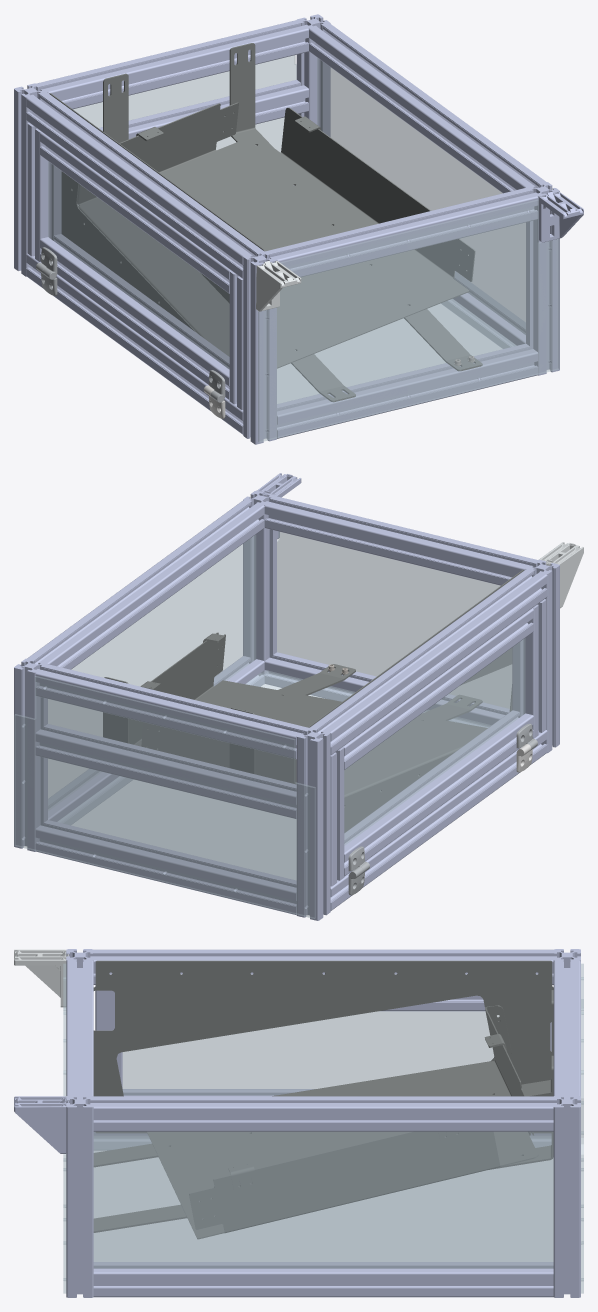
Rendered from imm-cell-boxes-cartons.glb.
3 renders of one model, top to bottom at view 1: azimuth 30°, elevation 25°; view 2: azimuth 150°, elevation 25°; view 3: azimuth 270°, elevation 25°, orthographic. The views are drawn at different scales.
Parts seen in each view (by area): view 1: 17_23_201_Predalnik_V2_mesh; view 2: 17_23_201_Predalnik_V2_mesh; view 3: 17_23_201_Predalnik_V2_mesh.
Boxes of the visible parts, x1,y1,x2,y2 form: 17_23_201_Predalnik_V2_mesh: [14, 14, 583, 444]; 17_23_201_Predalnik_V2_mesh: [14, 473, 583, 920]; 17_23_201_Predalnik_V2_mesh: [14, 949, 583, 1297].
Bounding box in the file's own units: 631 × 349 × 936.
